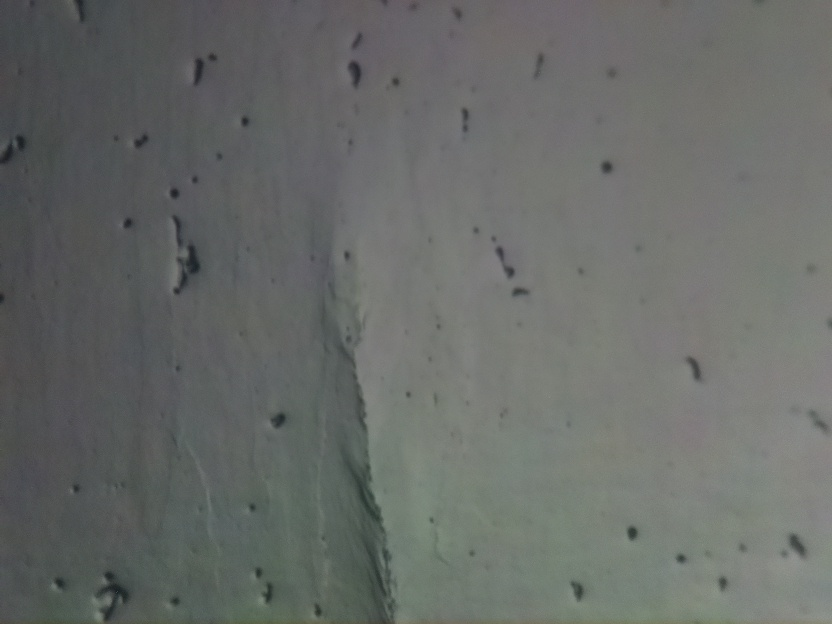crack: (324, 286, 397, 624)
